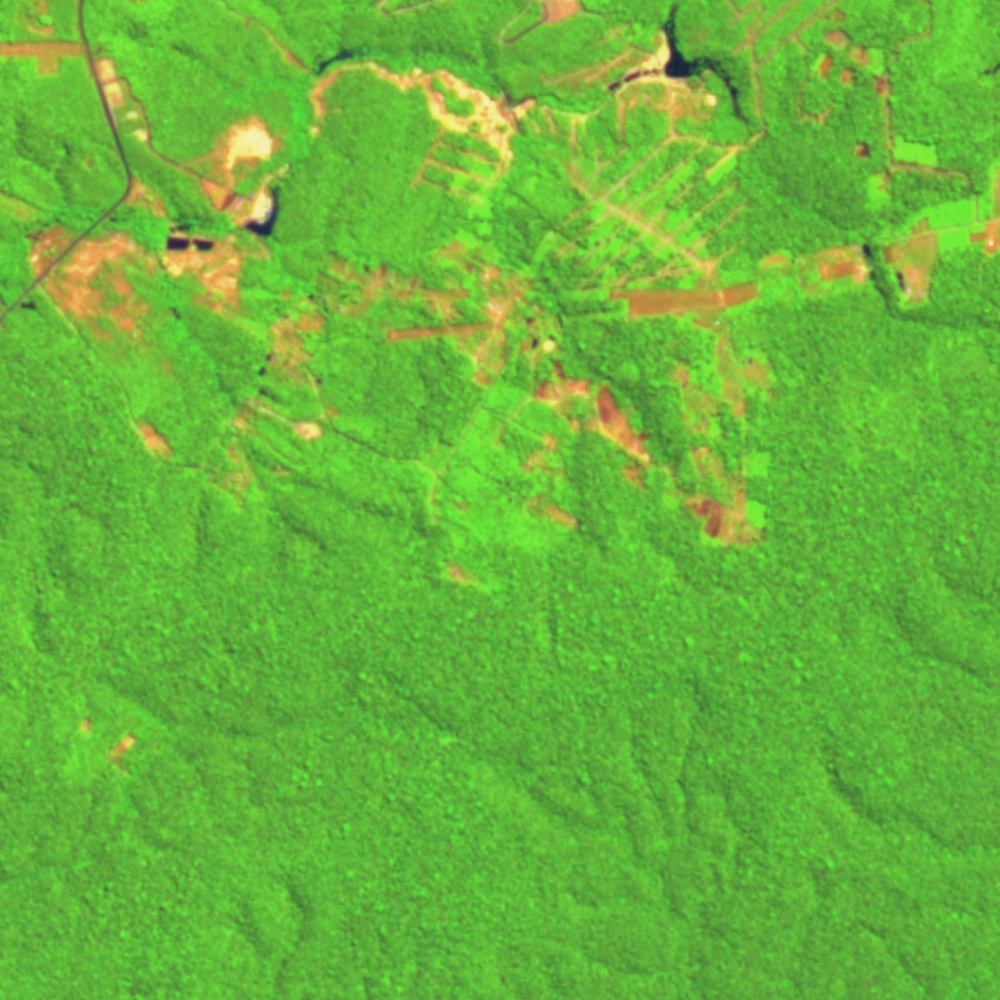legal: (243, 13, 526, 186), (212, 245, 389, 491), (380, 232, 564, 386), (803, 173, 1000, 312), (602, 1, 753, 129), (25, 212, 164, 350), (796, 2, 947, 128), (522, 358, 660, 488), (474, 379, 579, 539), (190, 118, 293, 244), (683, 442, 776, 559), (853, 103, 976, 191), (609, 262, 765, 331), (95, 57, 163, 210), (76, 715, 144, 775), (1, 36, 89, 69), (135, 414, 174, 466), (440, 557, 492, 590), (974, 59, 1000, 83), (169, 304, 188, 323)
